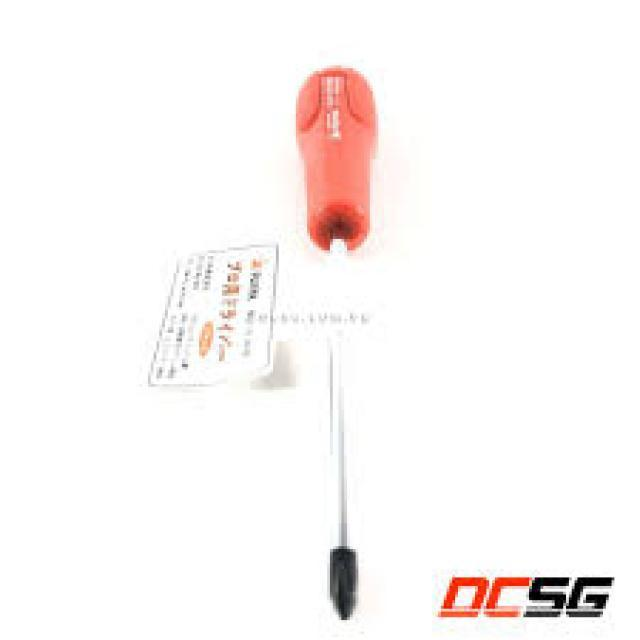screwdriver: (290, 61, 378, 630)
